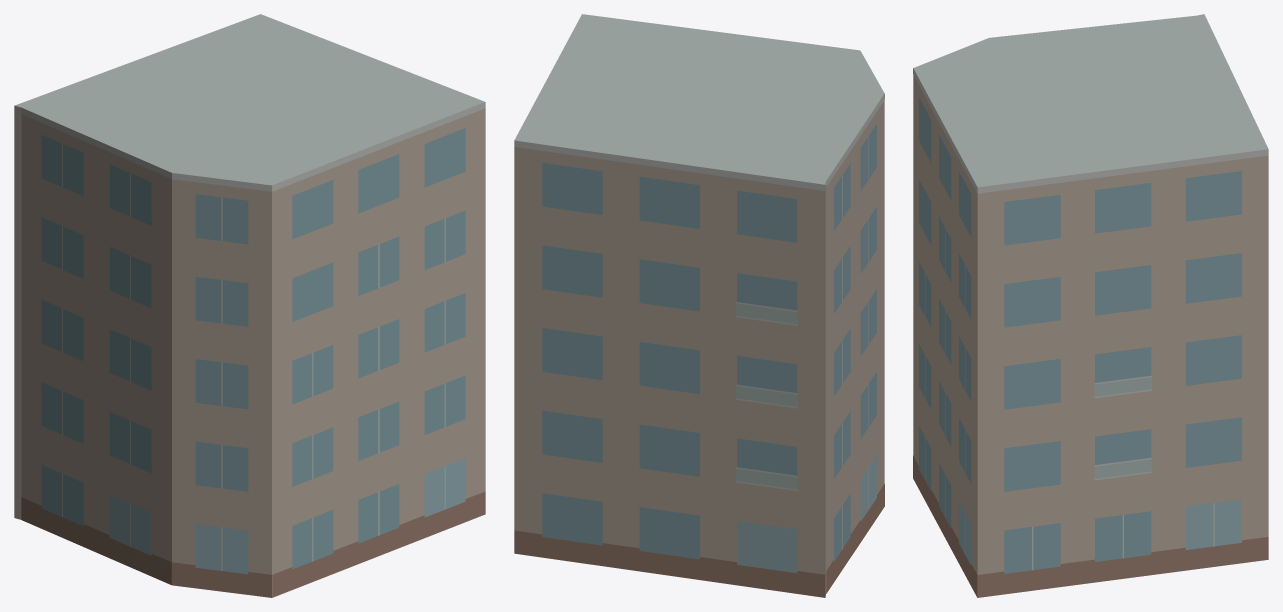
File: survey-upis-33011151.glb
3 views of the same model, side by side, from view 1: azimuth 30°, elevation 25°; view 2: azimuth 150°, elevation 25°; view 3: azimuth 270°, elevation 25° (orthographic).
Parts seen in each view (by area): view 1: survey-upis-33011151.tmp; view 2: survey-upis-33011151.tmp; view 3: survey-upis-33011151.tmp.
Boxes of the visible parts, x1=… form: survey-upis-33011151.tmp: x1=14, y1=14, x2=485, y2=597; survey-upis-33011151.tmp: x1=514, y1=14, x2=884, y2=597; survey-upis-33011151.tmp: x1=913, y1=14, x2=1268, y2=597.
Size of the model in its own units: 14.37 by 15.85 by 12.45.
